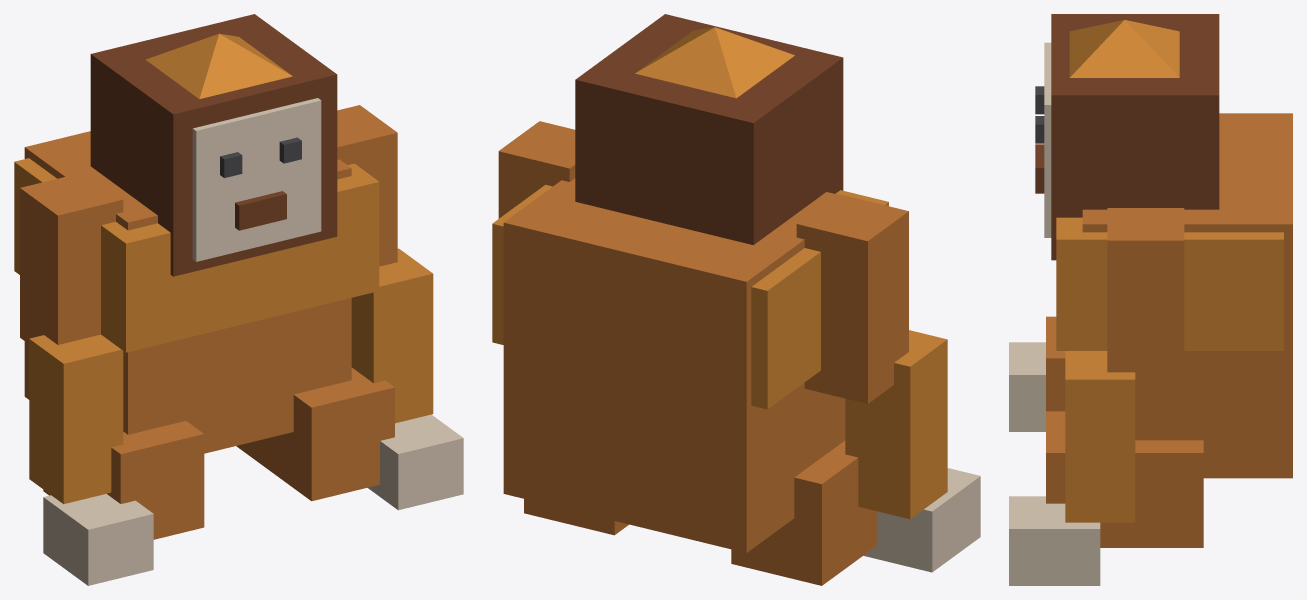
Rendered from orangutan_sumatera.glb.
3 views of the same model, side by side, from view 1: azimuth 30°, elevation 25°; view 2: azimuth 150°, elevation 25°; view 3: azimuth 270°, elevation 25° (orthographic). The views are drawn at different scales.
Parts seen in each view (by area): view 1: orangutan_sumatera; view 2: orangutan_sumatera; view 3: orangutan_sumatera.
Part boxes in pixels (x1,y1,x2,y2): orangutan_sumatera: [14, 14, 463, 585]; orangutan_sumatera: [492, 14, 980, 585]; orangutan_sumatera: [1009, 14, 1292, 585].
Size of the model in its own units: 1.26 by 1.49 by 0.81.
